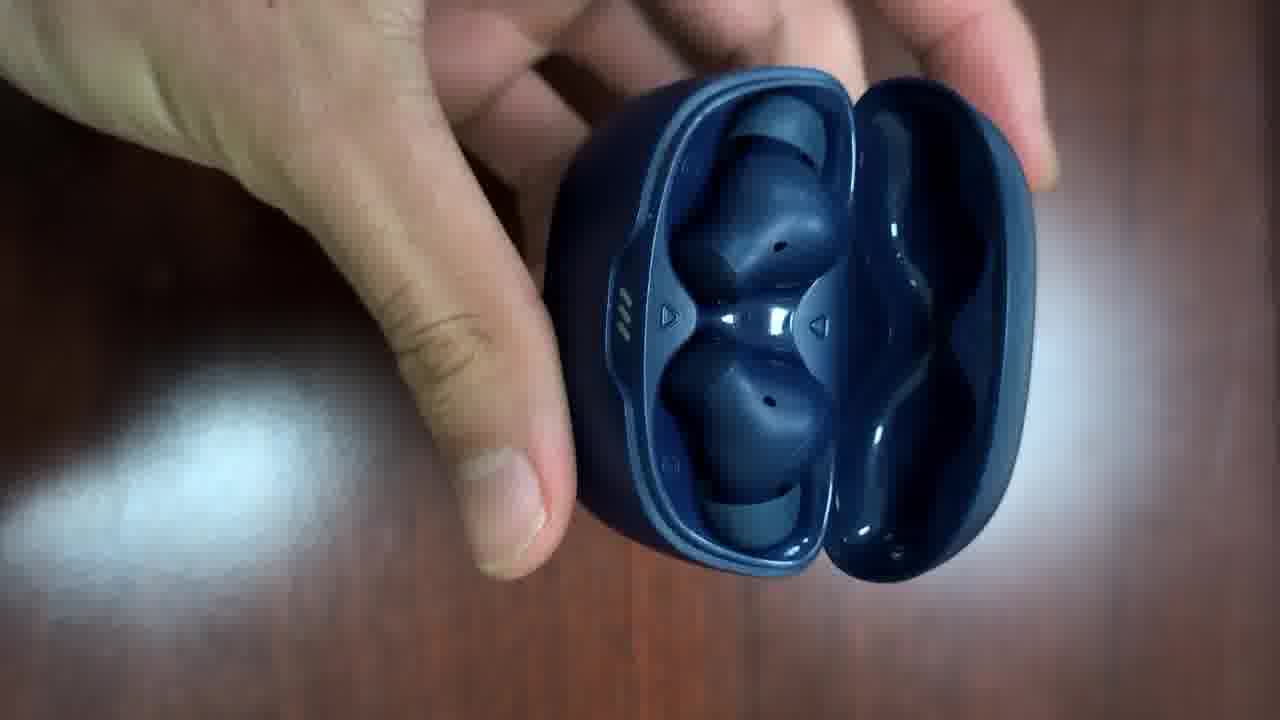Earbud: (662, 94, 845, 550)
